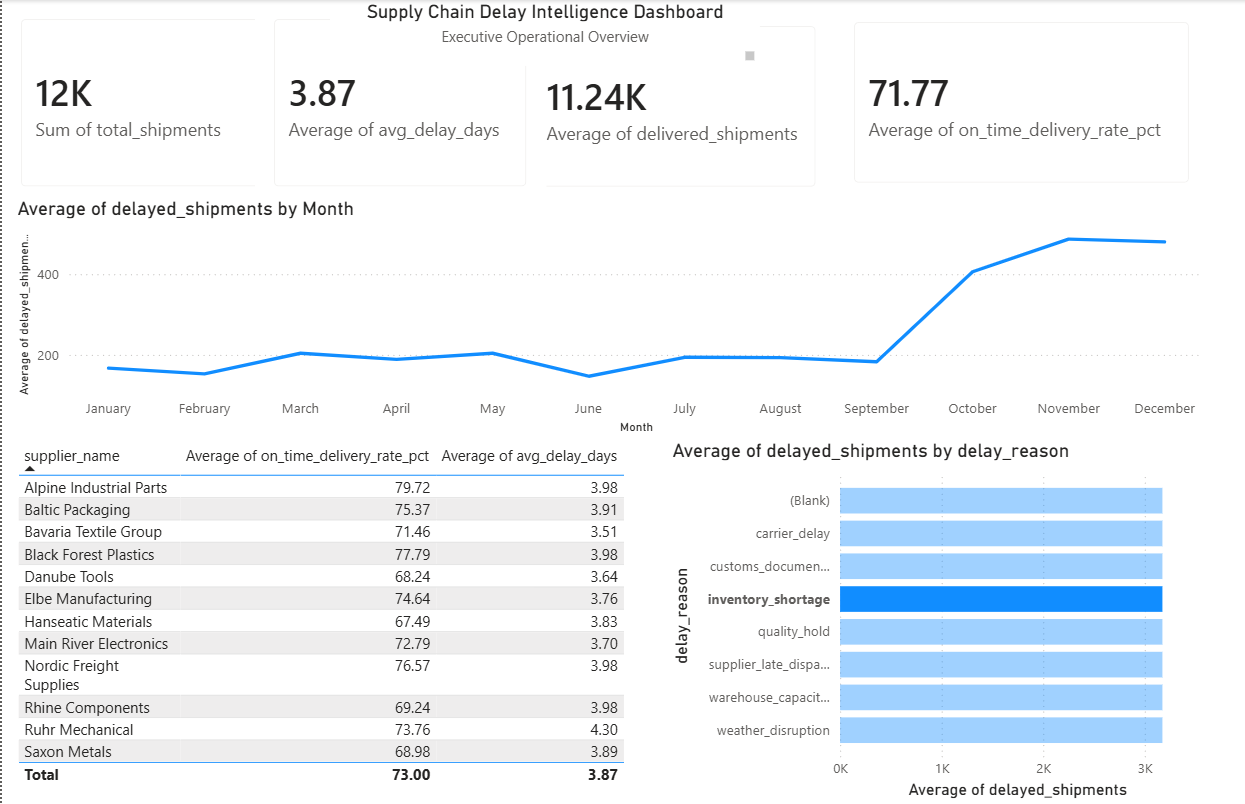

The page's visual inventory and layout, read from the dashboard file:
{"tool":"powerbi","page":{"name":"Page 1","canvas":[1280,720],"ordinal":0},"visuals":[{"type":"cardVisual","fields":{"Data":["Sum(public vw_delivery_performance_overview.total_shipments)","Sum(public vw_delivery_performance_overview.total_shipments)"]},"box":[0,0,250.8,184.9],"z":0},{"type":"cardVisual","fields":{"Data":["Avg(public vw_delivery_performance_overview.delivered_shipments)"]},"box":[457.3,6.3,288.7,178.6],"z":1},{"type":"cardVisual","fields":{"Data":["Avg(public vw_delivery_performance_overview.on_time_delivery_rate_pct)"]},"box":[746,2.7,334.9,178.2],"z":2},{"type":"cardVisual","fields":{"Data":["Avg(public vw_delivery_performance_overview.avg_delay_days)"]},"box":[226.4,0,260.7,184.9],"z":3},{"type":"lineChart","fields":{"Y":["Avg(public vw_monthly_delay_trends.delayed_shipments)"],"Category":["public vw_monthly_delay_trends.delivery_month.Variation.Date Hierarchy.Month"]},"box":[9,176.8,1071.6,216.5],"z":4},{"type":"tableEx","fields":{"Values":["public vw_supplier_reliability_ranking.supplier_name","Avg(public vw_supplier_reliability_ranking.on_time_delivery_rate_pct)","Avg(public vw_supplier_reliability_ranking.avg_delay_days)"]},"box":[9,393.3,586.3,326.5],"z":6},{"type":"clusteredBarChart","fields":{"Category":["public vw_high_risk_shipments.delay_reason"],"Y":["Avg(public vw_delivery_performance_overview.delayed_shipments)"]},"box":[595.3,393.3,485.3,326.5],"z":7},{"type":"textbox","title":"Supply Chain Delay Intelligence Dashboard","box":[294.1,0,385.2,58.6],"z":8}]}

Visuals, with their boxes on the page's 1280x720 design canvas (x1, y1, x2, y2). These are canvas units, not pixel positions in the 1245x804 screenshot, which may show the page scaled, cropped or inside an application window:
cardVisual - Sum(public vw_delivery_performance_overview.total_shipments) x Sum(public vw_delivery_performance_overview.total_shipments): {"x1": 0, "y1": 0, "x2": 251, "y2": 185}
cardVisual - Avg(public vw_delivery_performance_overview.delivered_shipments): {"x1": 457, "y1": 6, "x2": 746, "y2": 185}
cardVisual - Avg(public vw_delivery_performance_overview.on_time_delivery_rate_pct): {"x1": 746, "y1": 3, "x2": 1081, "y2": 181}
cardVisual - Avg(public vw_delivery_performance_overview.avg_delay_days): {"x1": 226, "y1": 0, "x2": 487, "y2": 185}
lineChart - Avg(public vw_monthly_delay_trends.delayed_shipments) x public vw_monthly_delay_trends.delivery_month.Variation.Date Hierarchy.Month: {"x1": 9, "y1": 177, "x2": 1081, "y2": 393}
tableEx - public vw_supplier_reliability_ranking.supplier_name x Avg(public vw_supplier_reliability_ranking.on_time_delivery_rate_pct): {"x1": 9, "y1": 393, "x2": 595, "y2": 720}
clusteredBarChart - public vw_high_risk_shipments.delay_reason x Avg(public vw_delivery_performance_overview.delayed_shipments): {"x1": 595, "y1": 393, "x2": 1081, "y2": 720}
"Supply Chain Delay Intelligence Dashboard" textbox: {"x1": 294, "y1": 0, "x2": 679, "y2": 59}
